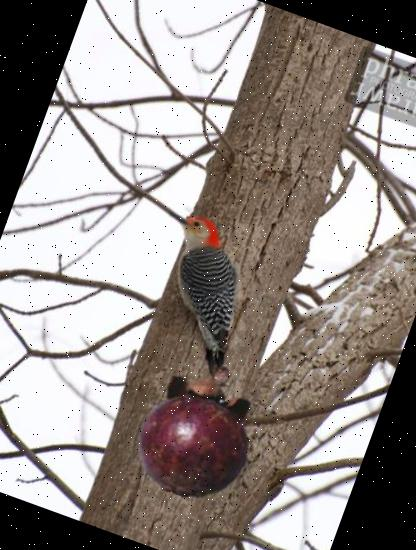Mangostan: (109, 340, 287, 518)
